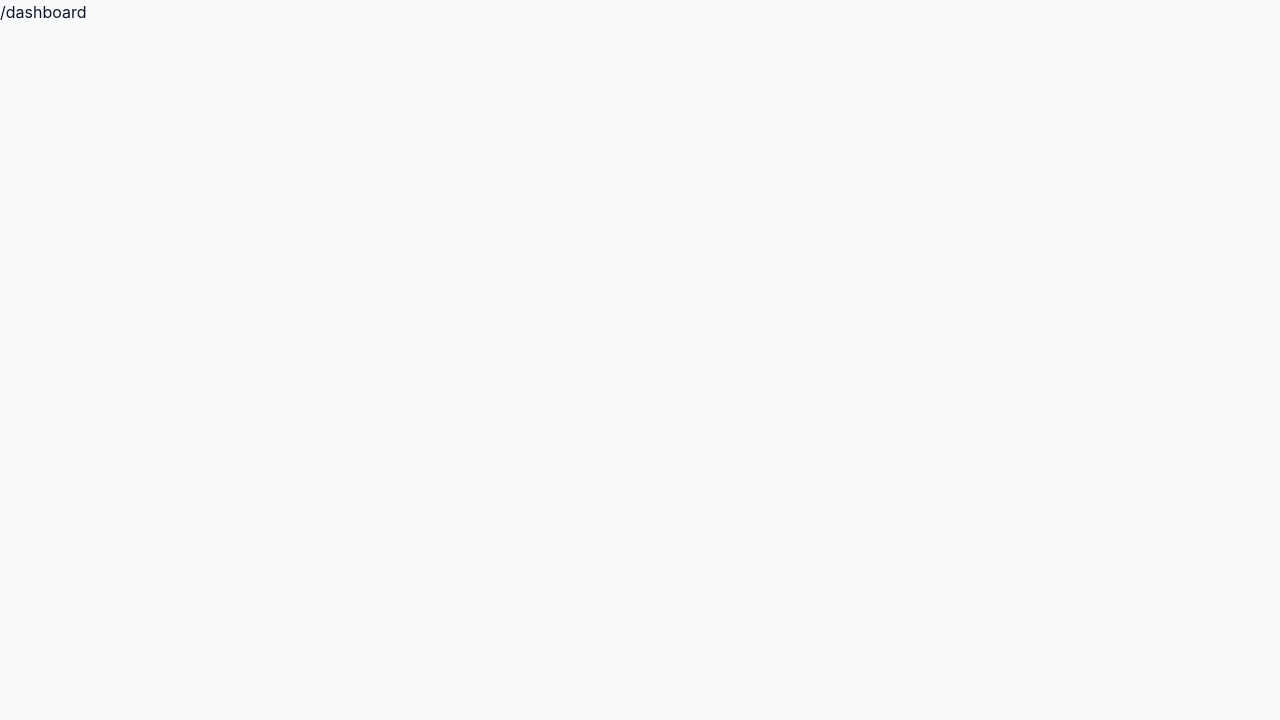
CommandPalette › requester results open the requester page; department results deep-link into the queue
The width and height of the screenshot is (1280, 720).
Press k
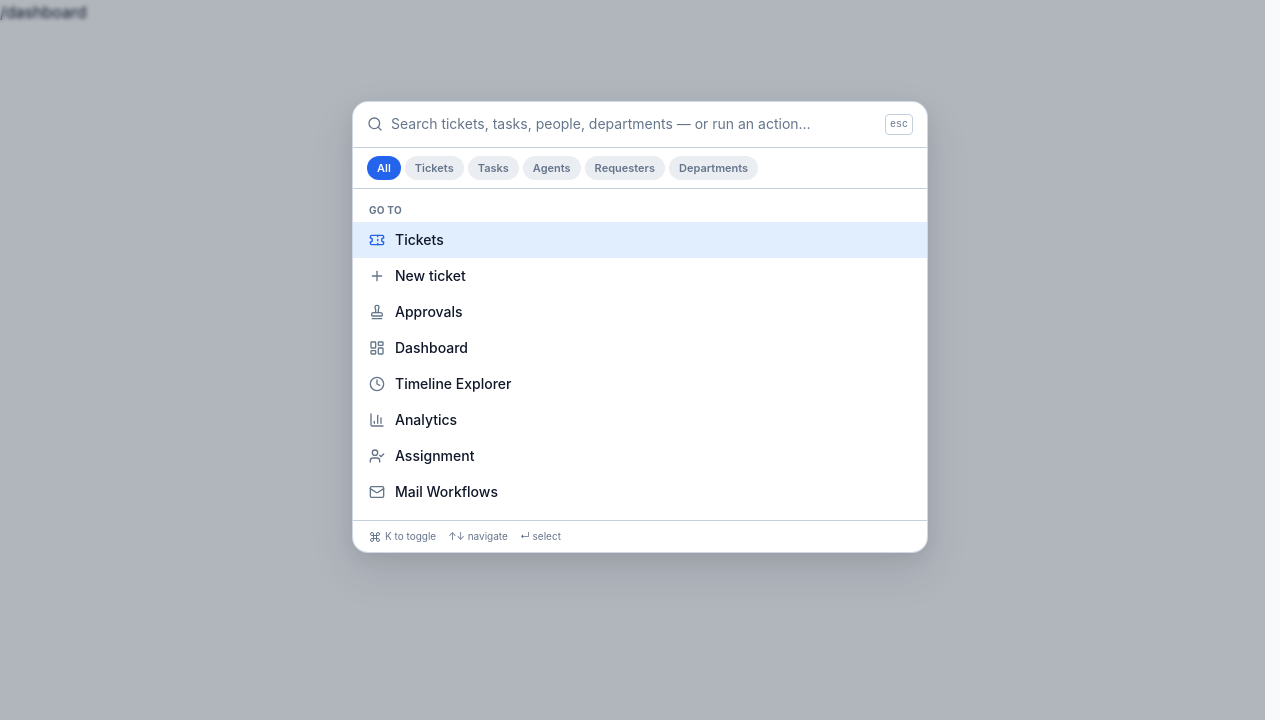
Replace the text in the dropdown with "ana": (634, 124) [391,114,877,134]
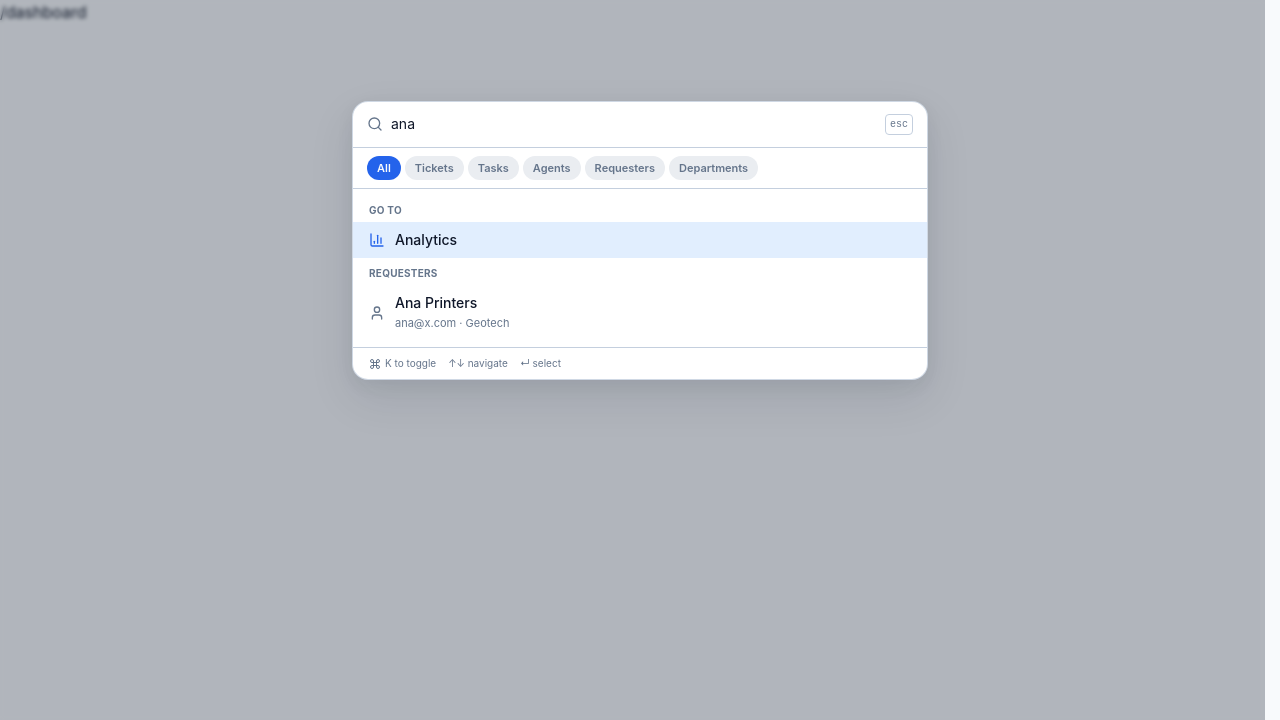
Click the option "Ana Printers ana@x.com · Geotech": (436, 303) [353,285,927,341]
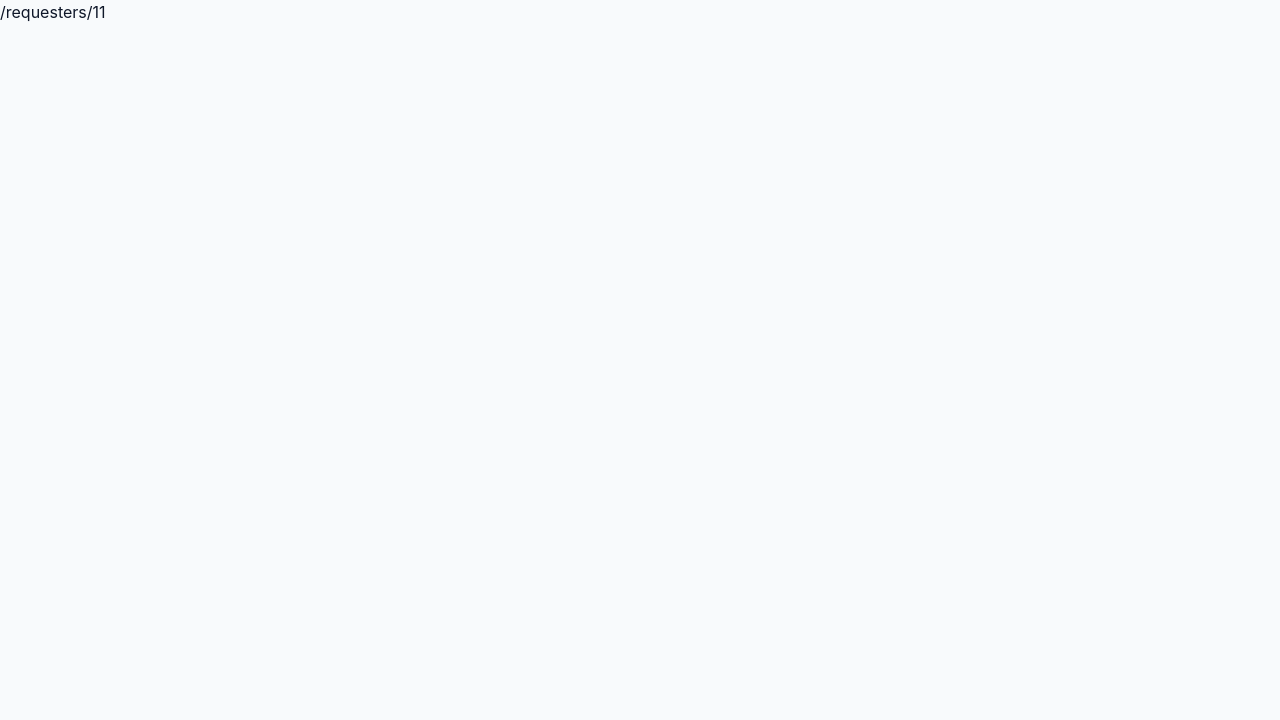
Expected: the text with test id "location" reads "/requesters/11", [0,2,106,22]
Press k
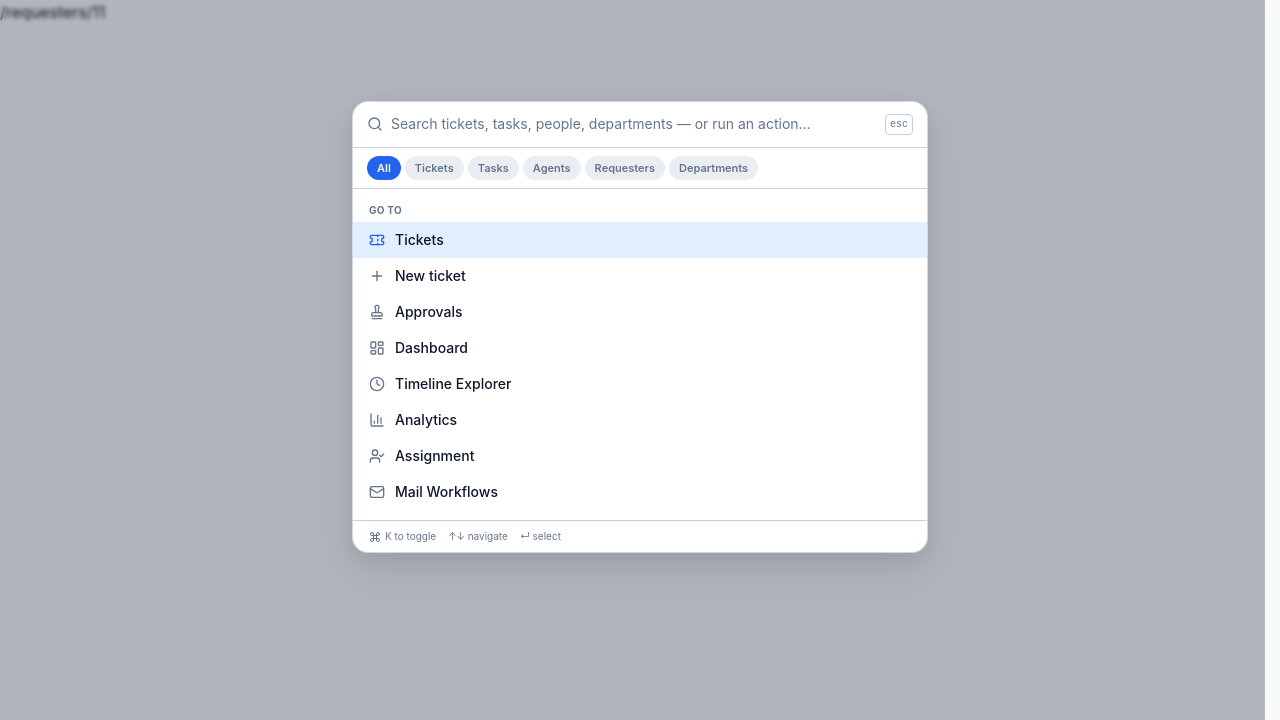
Replace the text in the dropdown with "printing": (634, 124) [391,114,877,134]
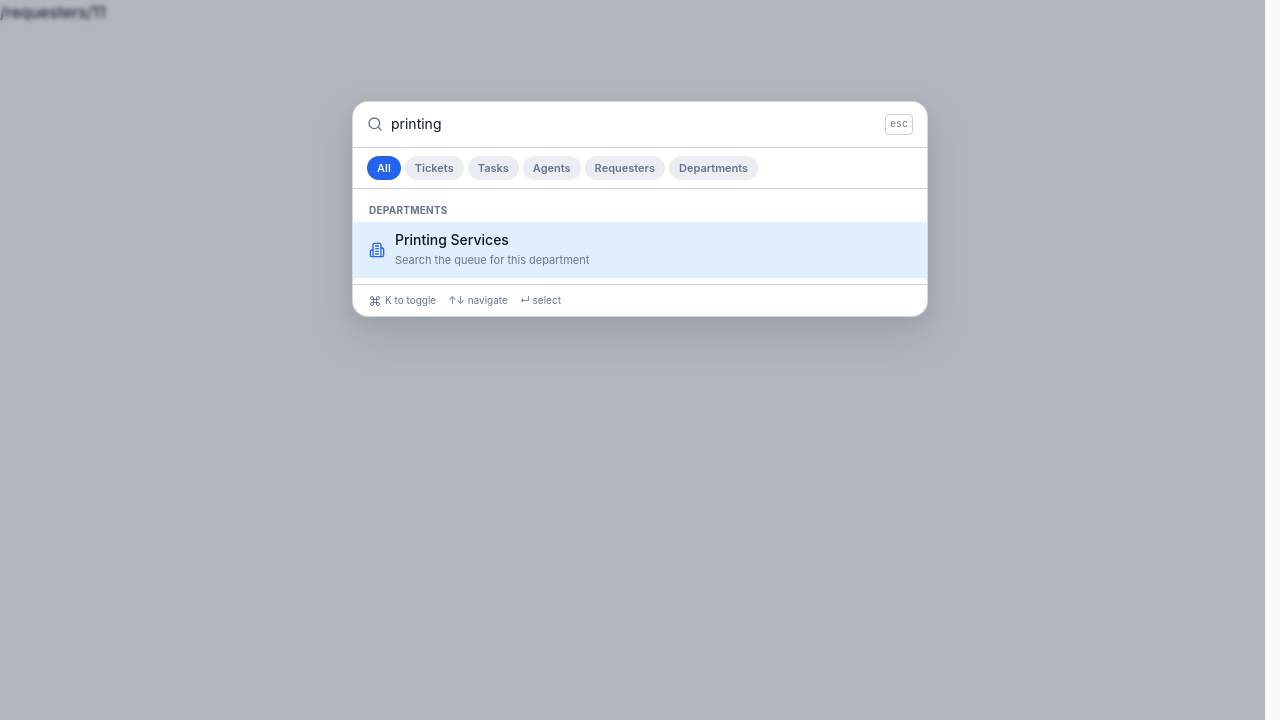
Click the option "Printing Services Search the queue for this department": (452, 240) [353,222,927,278]
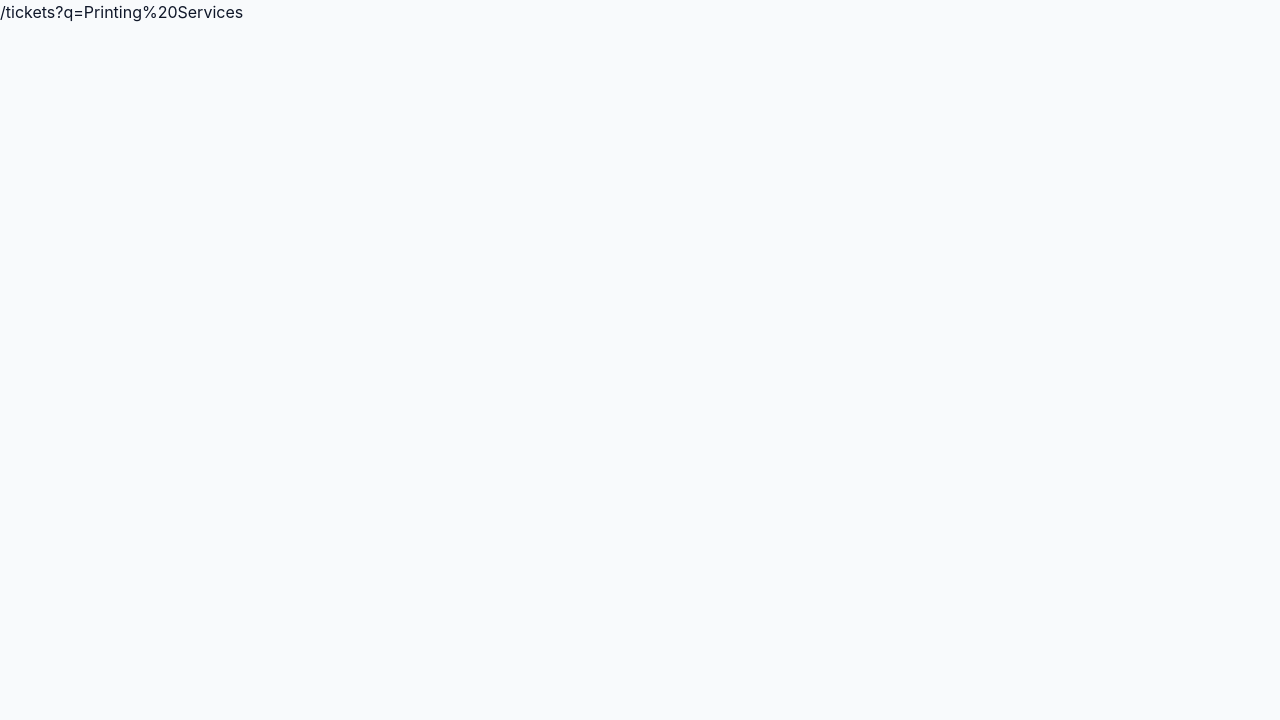
Expected: the text with test id "location" reads "/tickets?q=Printing%20Services", [0,2,243,22]
